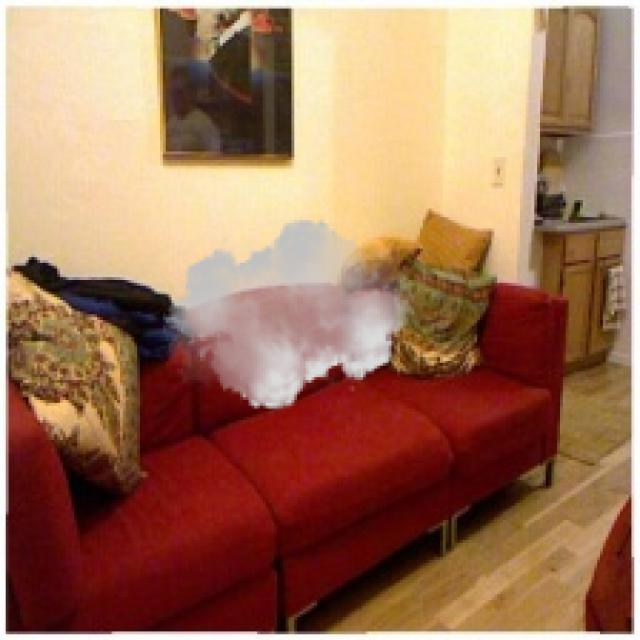smoke: (163, 212, 414, 417)
